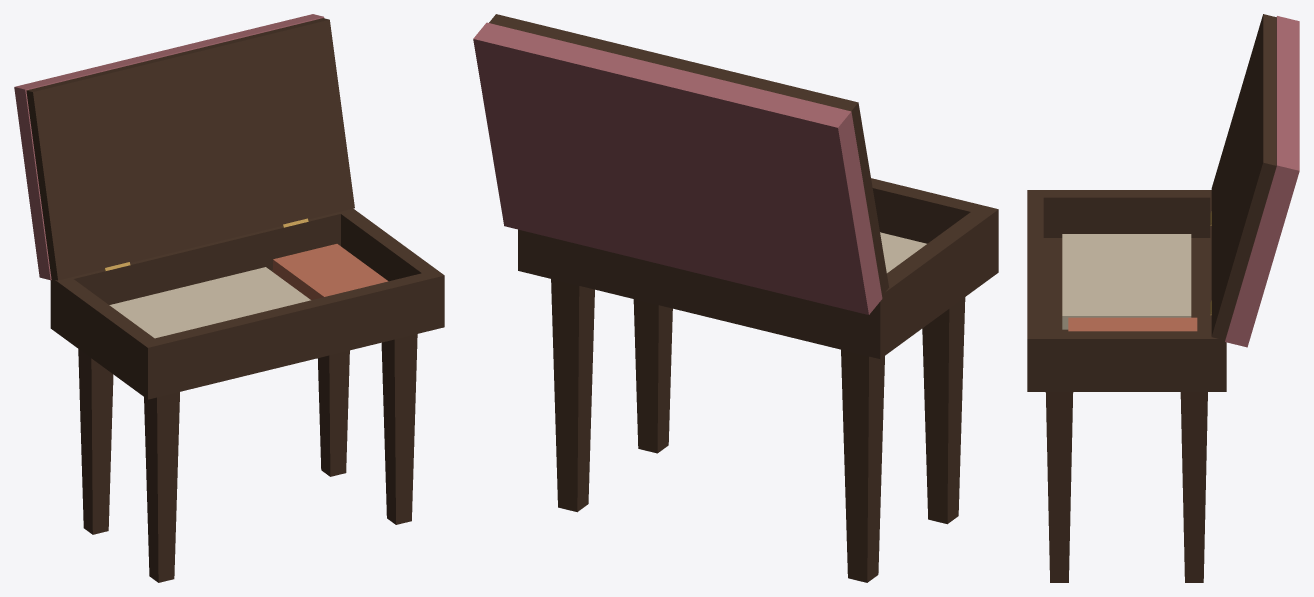
File: FN_Stool_Piano.glb
3 renders of one model, left to right at view 1: azimuth 30°, elevation 25°; view 2: azimuth 150°, elevation 25°; view 3: azimuth 270°, elevation 25°, orthographic. The views are drawn at different scales.
Parts seen in each view (by area): view 1: FN_Stool_Piano; view 2: FN_Stool_Piano; view 3: FN_Stool_Piano.
Boxes of the visible parts, x1,y1,x2,y2 form: FN_Stool_Piano: (14, 14, 444, 582); FN_Stool_Piano: (473, 14, 998, 582); FN_Stool_Piano: (1027, 14, 1299, 582).
Bounding box in the file's own units: 0.604 × 0.8115 × 0.4647.
Materials: 1 (1 with a texture image).
